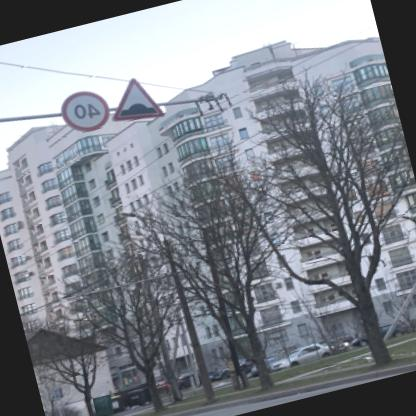speedlimit: (58, 84, 116, 136)
